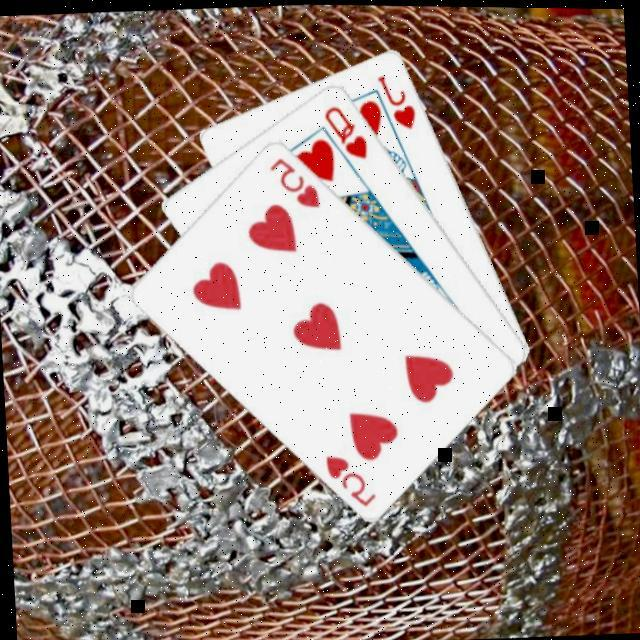5H: (263, 149, 322, 212), (320, 446, 378, 509)
JH: (372, 68, 419, 132)
QH: (319, 98, 370, 162)
